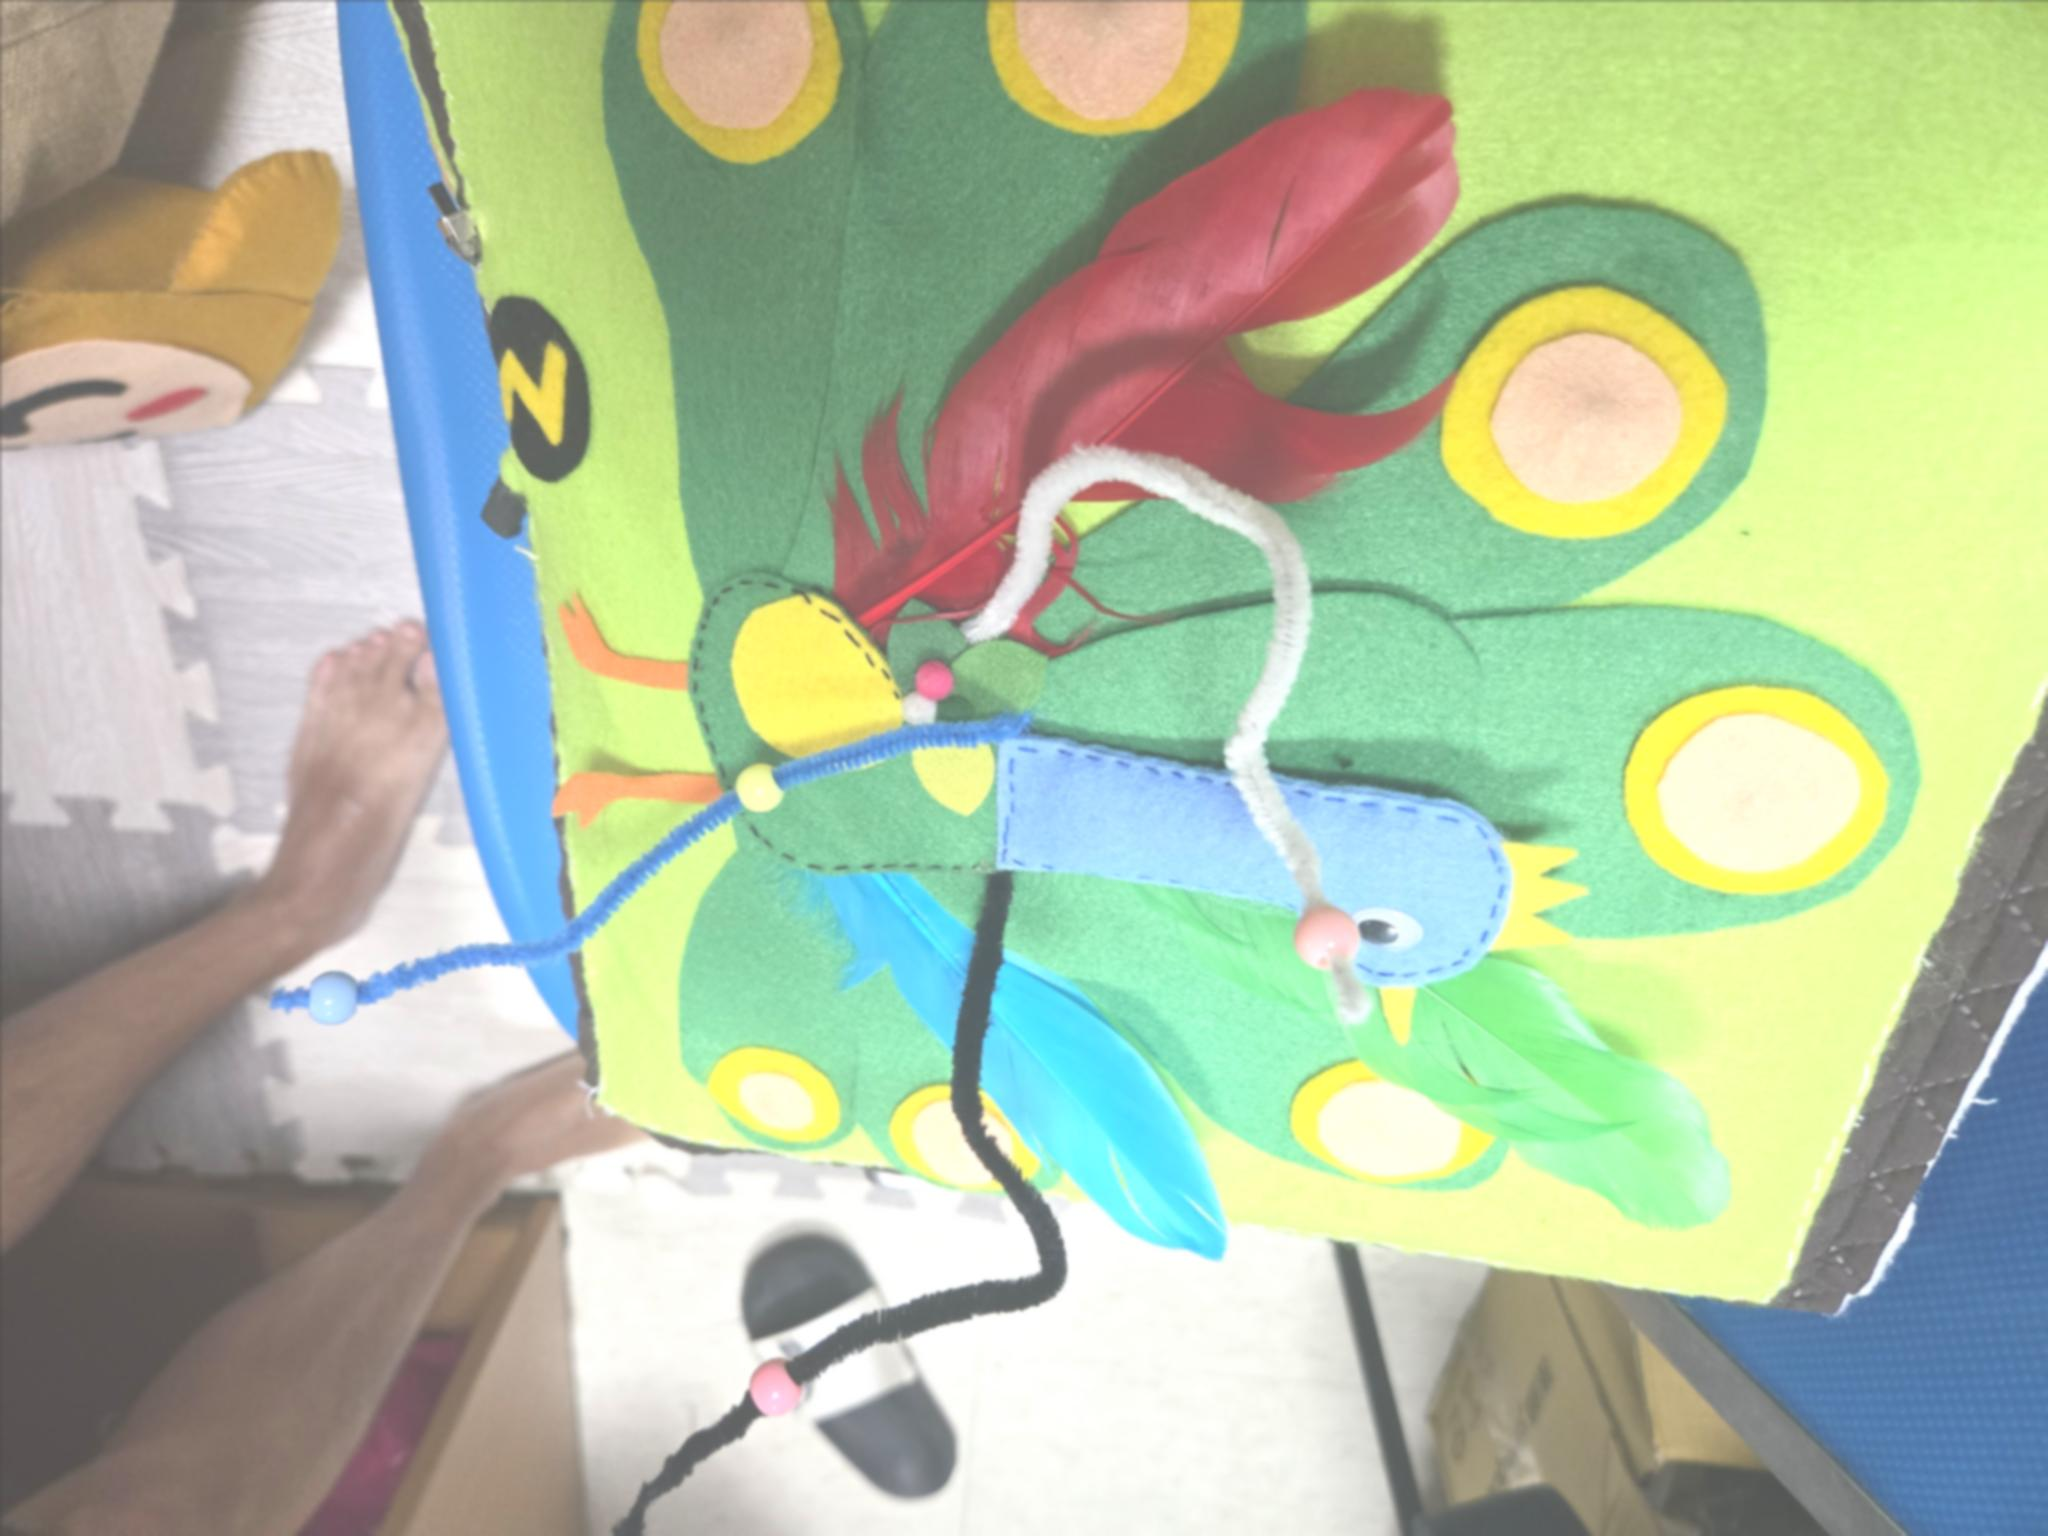bead: (1280, 899, 1366, 978), (737, 1352, 813, 1428), (297, 960, 369, 1034), (732, 750, 790, 826)
